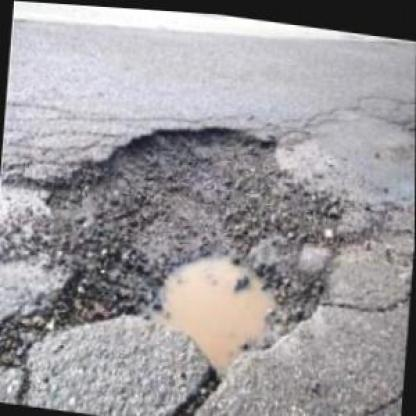pothole: (25, 94, 355, 394)
